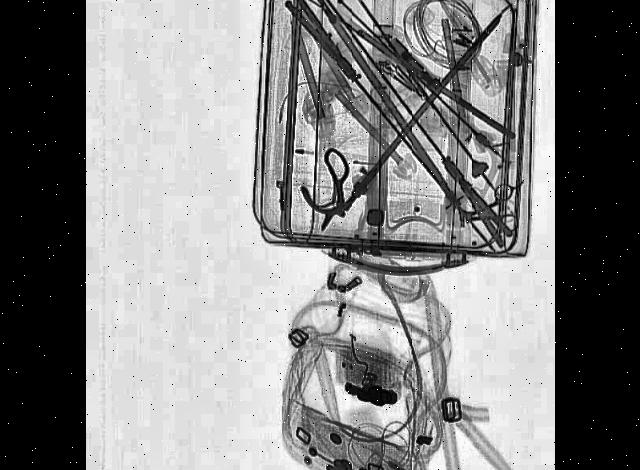Pliers: (281, 0, 357, 91)
Scissors: (462, 182, 518, 240)
